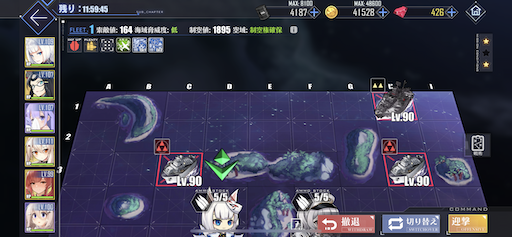lv2: (373, 89, 418, 123)
lv3: (380, 149, 434, 187), (158, 148, 200, 187)
